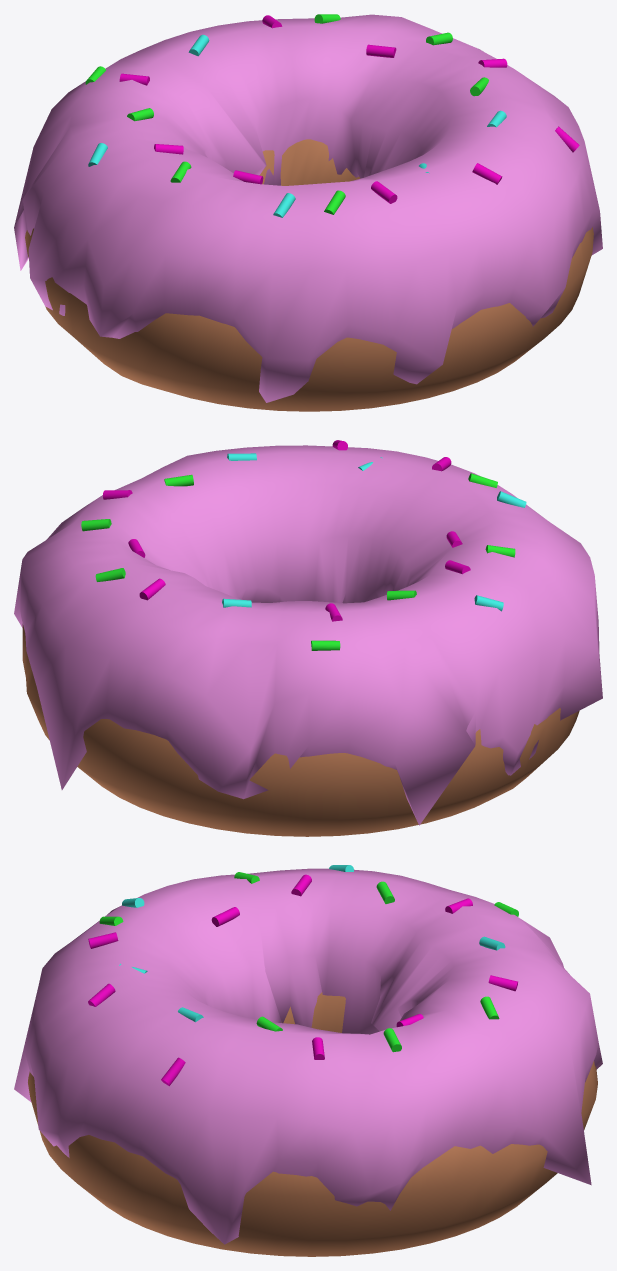
Rendered from donut.glb.
3 views of the same model, one above another, from view 1: azimuth 30°, elevation 25°; view 2: azimuth 150°, elevation 25°; view 3: azimuth 270°, elevation 25° (orthographic).
Visible parts, largest first — view 1: Torus.001, Torus.008; view 2: Torus.001, Torus.008; view 3: Torus.001, Torus.008.
Boxes of the visible parts, x1=… form: Torus.001: x1=14, y1=14, x2=602, y2=402; Torus.008: x1=25, y1=139, x2=593, y2=411; Torus.001: x1=14, y1=445, x2=602, y2=825; Torus.008: x1=22, y1=624, x2=579, y2=836; Torus.001: x1=14, y1=868, x2=602, y2=1244; Torus.008: x1=28, y1=992, x2=597, y2=1256.
Size of the model in its own units: 2.47 by 1.04 by 2.49.
